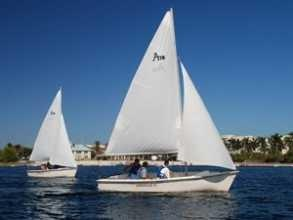fanchuan: (91, 7, 237, 193), (21, 86, 93, 179)
